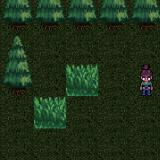Obstacle: (34, 0, 67, 32), (66, 0, 99, 32), (2, 0, 34, 32), (98, 0, 130, 32), (2, 64, 34, 96), (129, 0, 160, 32)
Slow: (34, 95, 66, 129), (66, 65, 99, 96)
Victim: (132, 64, 160, 96)
